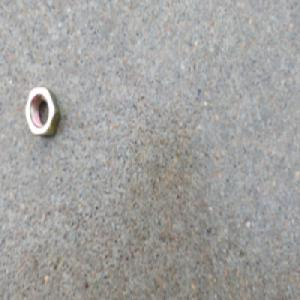Nut: (23, 84, 60, 139)
